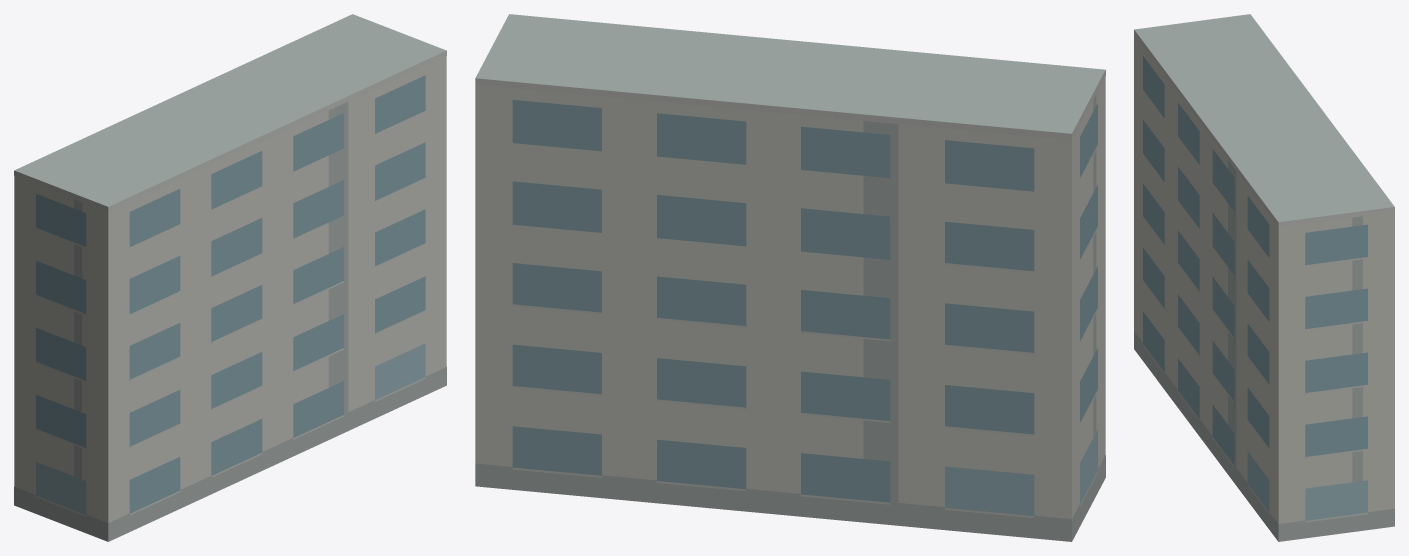
The model's file is survey-upis-32622927.glb.
The picture shows the model from 3 angles, left to right: view 1: azimuth 30°, elevation 25°; view 2: azimuth 150°, elevation 25°; view 3: azimuth 270°, elevation 25°; orthographic projection. The views are drawn at different scales.
Visible parts, largest first — view 1: survey-upis-32622927.tmp; view 2: survey-upis-32622927.tmp; view 3: survey-upis-32622927.tmp.
Part boxes in pixels (box(x1,y1,x2,y2)): survey-upis-32622927.tmp: box(14, 14, 446, 541); survey-upis-32622927.tmp: box(475, 14, 1105, 541); survey-upis-32622927.tmp: box(1134, 14, 1394, 541).
Size of the model in its own units: 21.32 by 15.25 by 11.28.
